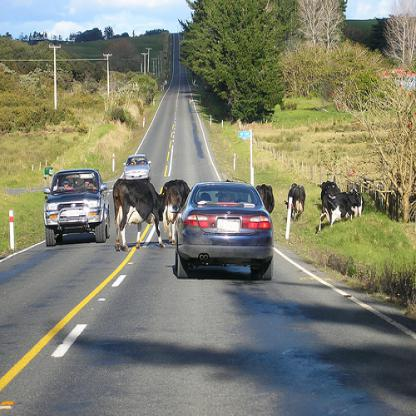car: (176, 181, 275, 282), (44, 169, 112, 249), (123, 156, 151, 184)
cow: (114, 177, 167, 252), (161, 179, 194, 248), (319, 180, 345, 230), (287, 185, 307, 222), (345, 188, 365, 220), (256, 184, 275, 215)
